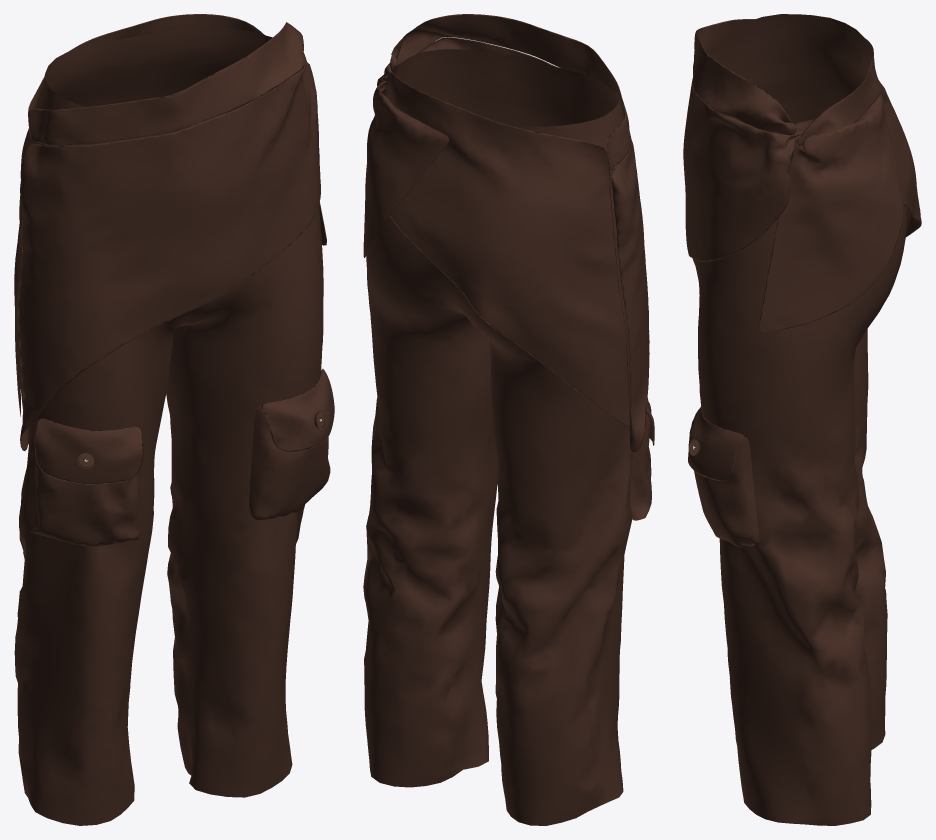
Rendered from pants.gltf.
The picture shows the model from 3 angles, left to right: view 1: azimuth 30°, elevation 25°; view 2: azimuth 150°, elevation 25°; view 3: azimuth 270°, elevation 25°; orthographic projection. The views are drawn at different scales.
Parts seen in each view (by area): view 1: Pattern2D_73538, Pattern2D_149453, Pattern2D_15799, Pattern2D_56484, Pattern2D_69696, Pattern2D_56485, Pattern2D_69697; view 2: Pattern2D_73538, Pattern2D_149453, Pattern2D_15799, Pattern2D_56484; view 3: Pattern2D_73538, Pattern2D_15799, Pattern2D_149453, Pattern2D_56485, Pattern2D_69697.
Part boxes in pixels (left/top/right/bottom): Pattern2D_73538: left=14, top=27, right=323, bottom=825; Pattern2D_149453: left=14, top=14, right=320, bottom=450; Pattern2D_15799: left=28, top=22, right=326, bottom=245; Pattern2D_56484: left=30, top=419, right=142, bottom=546; Pattern2D_69696: left=34, top=418, right=143, bottom=484; Pattern2D_56485: left=249, top=370, right=330, bottom=519; Pattern2D_69697: left=262, top=369, right=334, bottom=451; Pattern2D_73538: left=363, top=49, right=632, bottom=825; Pattern2D_149453: left=377, top=37, right=649, bottom=453; Pattern2D_15799: left=363, top=14, right=630, bottom=257; Pattern2D_56484: left=630, top=413, right=651, bottom=520; Pattern2D_73538: left=692, top=14, right=911, bottom=825; Pattern2D_15799: left=692, top=19, right=903, bottom=332; Pattern2D_149453: left=683, top=38, right=921, bottom=261; Pattern2D_56485: left=694, top=436, right=759, bottom=547; Pattern2D_69697: left=688, top=407, right=743, bottom=481.
Bounding box in the file's own units: 2.28 × 5.75 × 1.68.
